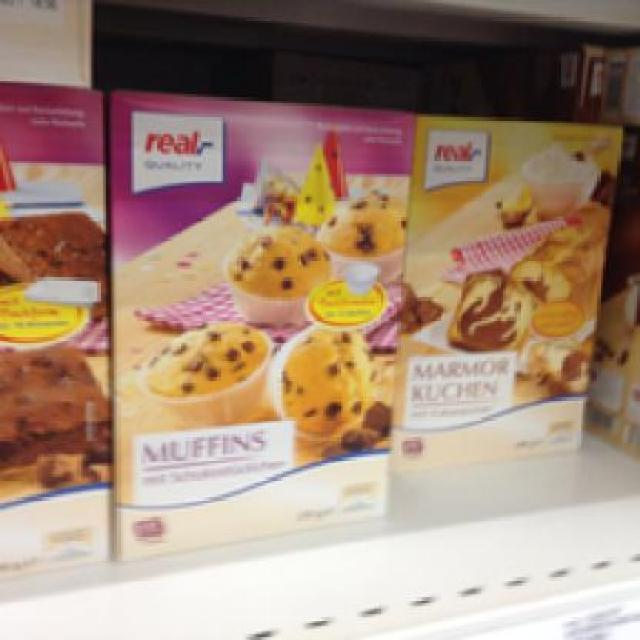Cake: (102, 86, 412, 568), (403, 100, 626, 469)
